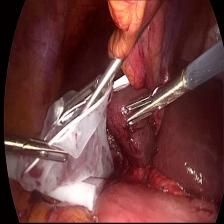Grasper: (124, 68, 184, 132), (77, 58, 118, 124), (7, 128, 70, 168)
Specimen Bag: (2, 69, 119, 215)
